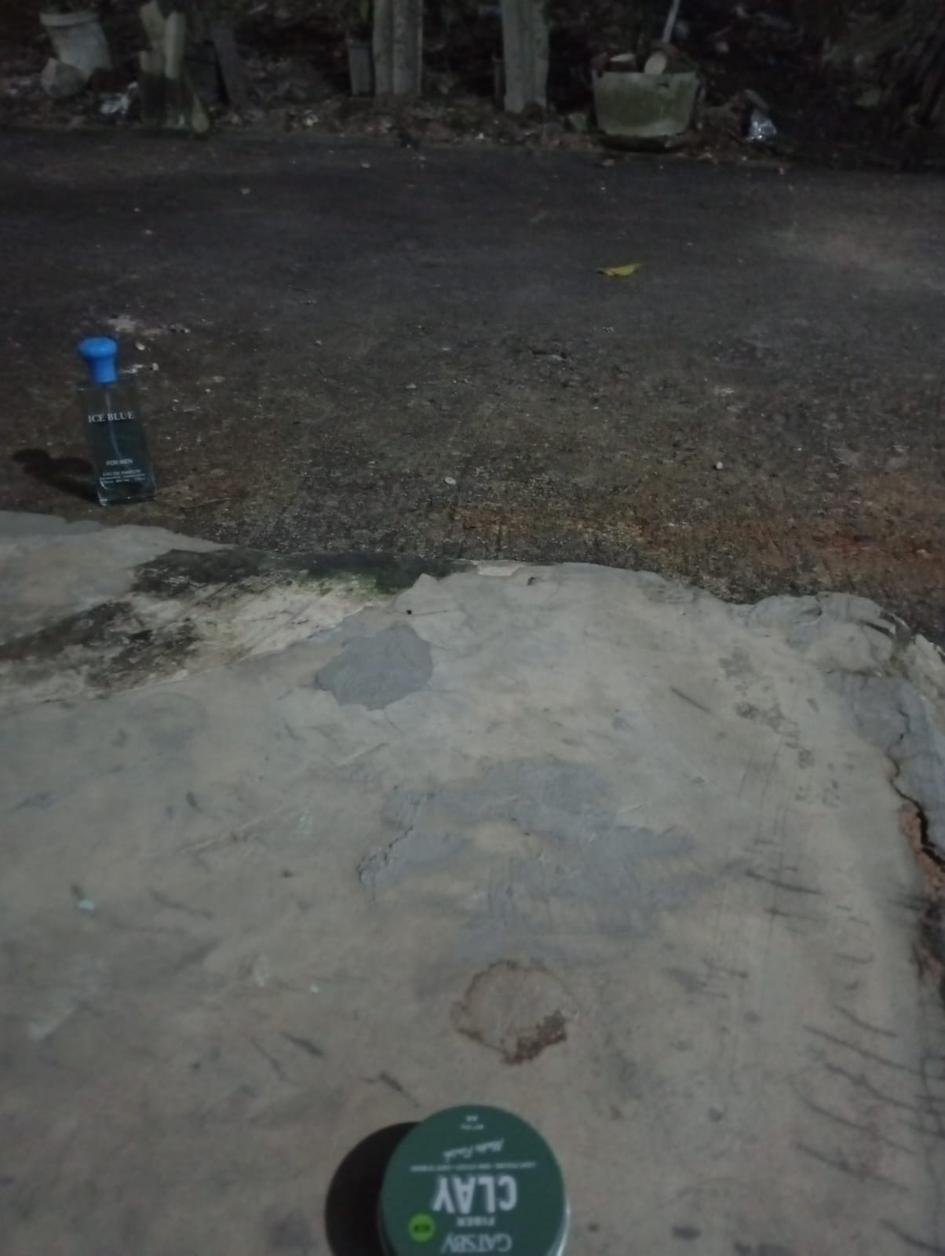Minyak_Rambut: (308, 1091, 604, 1256)
Parfum: (35, 321, 191, 514)
